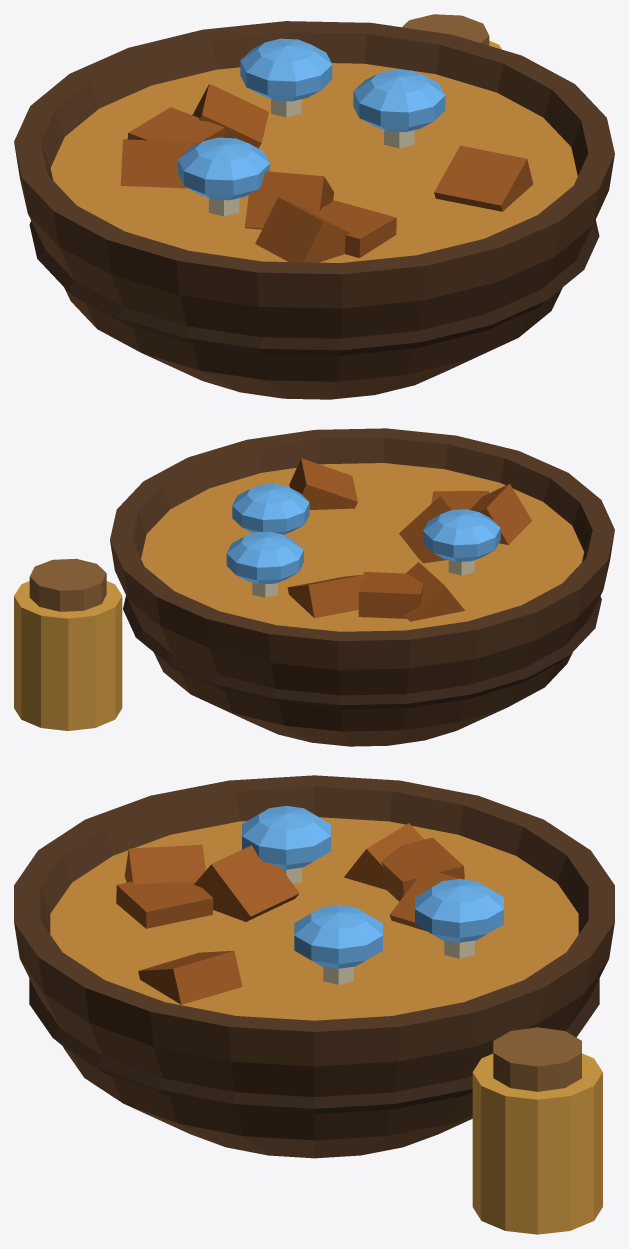
The model's file is VFP_Food_RoyalMistRagout.obj.
3 renders of one model, top to bottom at view 1: azimuth 30°, elevation 25°; view 2: azimuth 150°, elevation 25°; view 3: azimuth 270°, elevation 25°, orthographic. The views are drawn at different scales.
Visible parts, largest first — view 1: Bowl, Fill, Chunks, Mush_mush_blue, Bowl_wood_dark, Jar_cork, Mush; view 2: Bowl, Fill, Jar, Chunks, Mush_mush_blue, Bowl_wood_dark, Jar_cork, Mush; view 3: Bowl, Fill, Chunks, Jar, Mush_mush_blue, Bowl_wood_dark, Jar_cork, Mush.
Part boxes in pixels (bbox=[...]): Bowl: bbox=[14, 21, 614, 399]; Fill: bbox=[50, 63, 577, 262]; Chunks: bbox=[120, 83, 533, 262]; Mush_mush_blue: bbox=[178, 38, 445, 200]; Bowl_wood_dark: bbox=[29, 220, 599, 355]; Jar_cork: bbox=[402, 14, 489, 45]; Mush: bbox=[208, 99, 414, 216]; Bowl: bbox=[110, 428, 614, 746]; Fill: bbox=[141, 463, 583, 631]; Jar: bbox=[14, 581, 122, 730]; Chunks: bbox=[287, 458, 531, 621]; Mush_mush_blue: bbox=[226, 484, 500, 584]; Bowl_wood_dark: bbox=[123, 596, 601, 709]; Jar_cork: bbox=[29, 558, 106, 611]; Mush: bbox=[252, 560, 474, 597]; Bowl: bbox=[14, 775, 614, 1158]; Fill: bbox=[50, 817, 578, 1020]; Chunks: bbox=[116, 823, 464, 1004]; Jar: bbox=[472, 1053, 602, 1234]; Mush_mush_blue: bbox=[242, 806, 503, 968]; Bowl_wood_dark: bbox=[29, 979, 599, 1114]; Jar_cork: bbox=[493, 1027, 581, 1091]; Mush: bbox=[282, 867, 474, 984].
Bounding box in the file's own units: 0.3482 × 0.1331 × 0.323.
